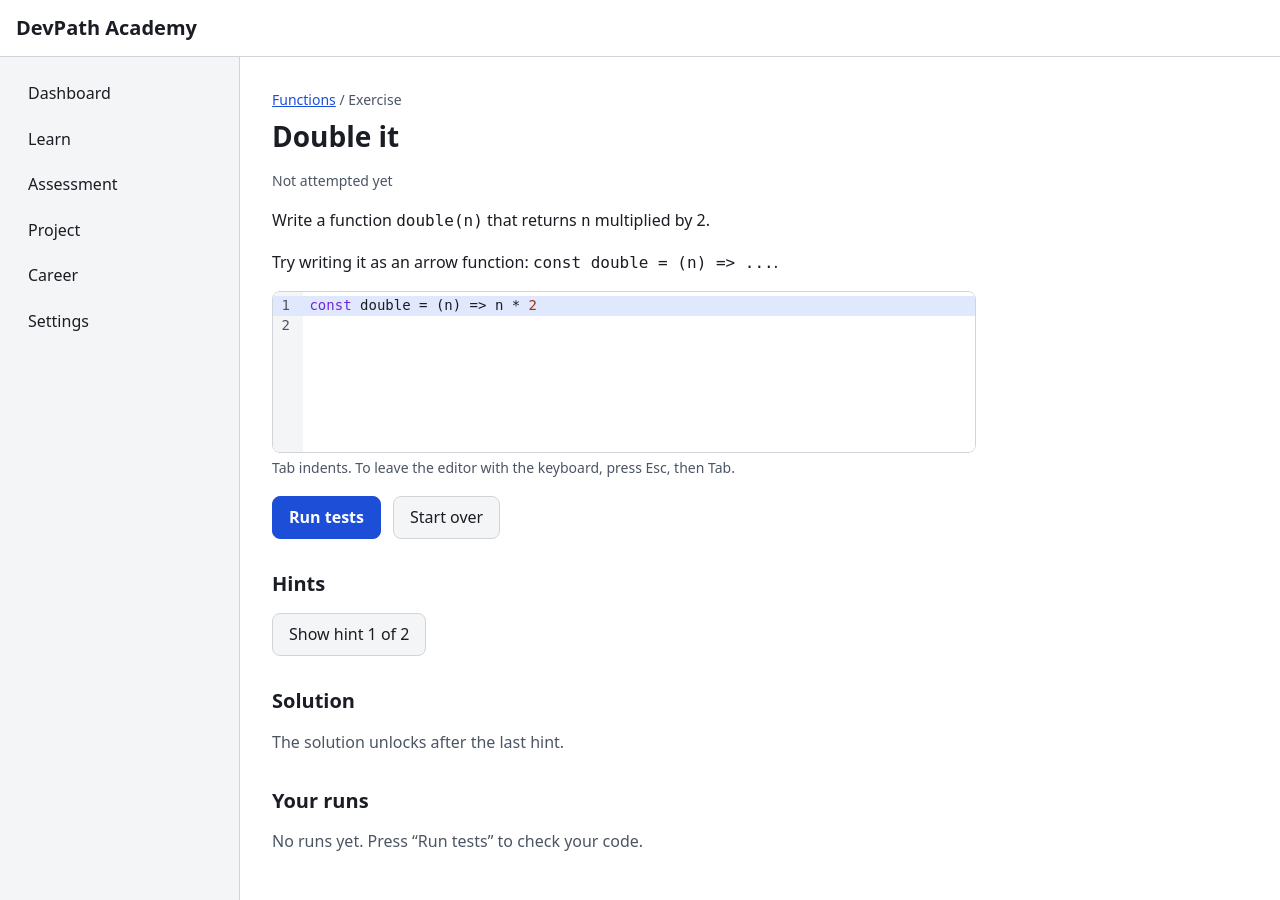
Test: exercise page (/exercises/:exerciseId) › passes with a correct solution and records the run in the history
Expected: the field named "Your code" is shown, 303,296 -> 975,316
Click the button "Run tests": (326, 517) 272,496 -> 381,539
(page scrolled)
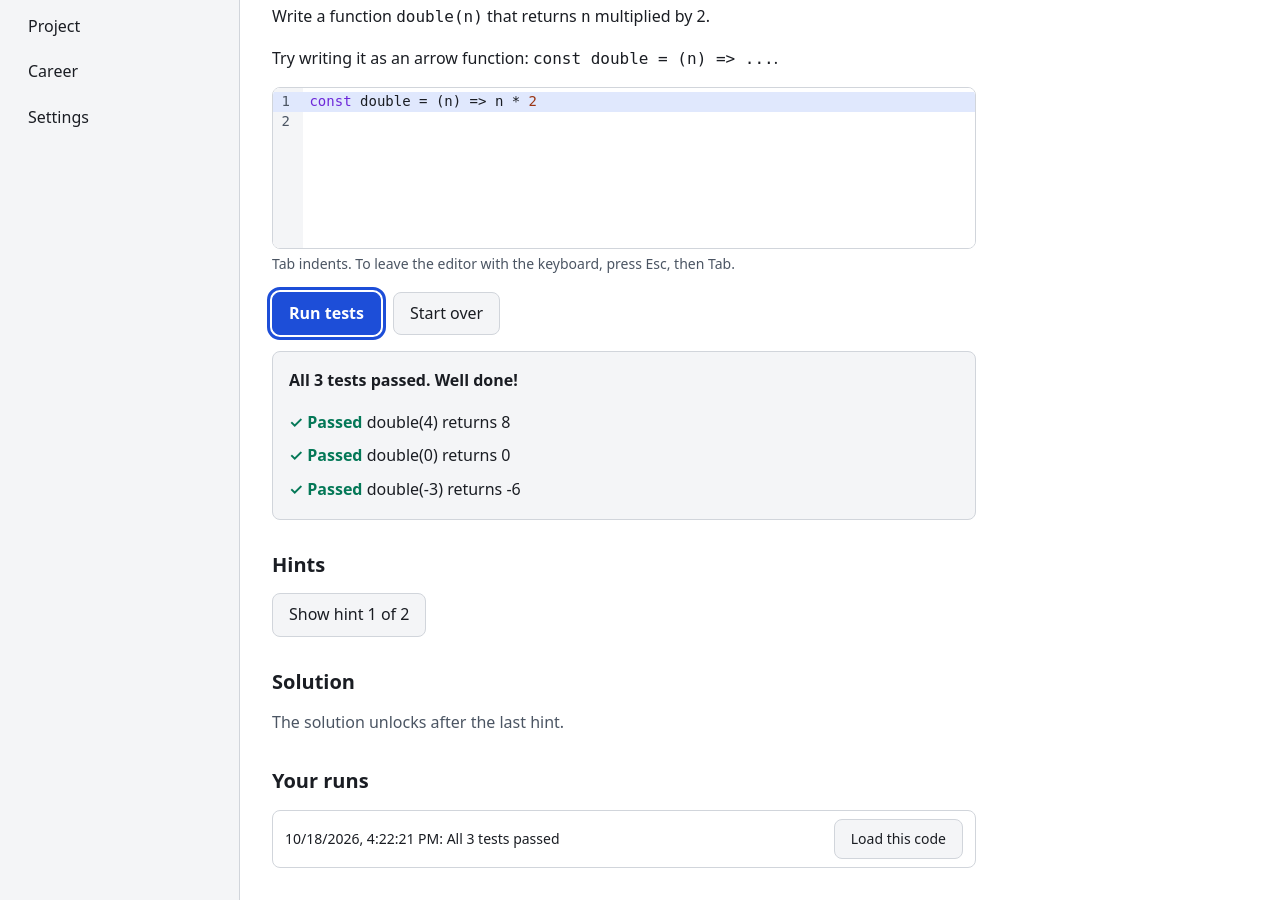
Result: the text "All 3 tests passed. Well done!" is shown at 289,369 -> 518,391
Result: the text "10/18/2026, 4:22:21 PM: All 3 tests passed" is shown at 285,828 -> 560,850
